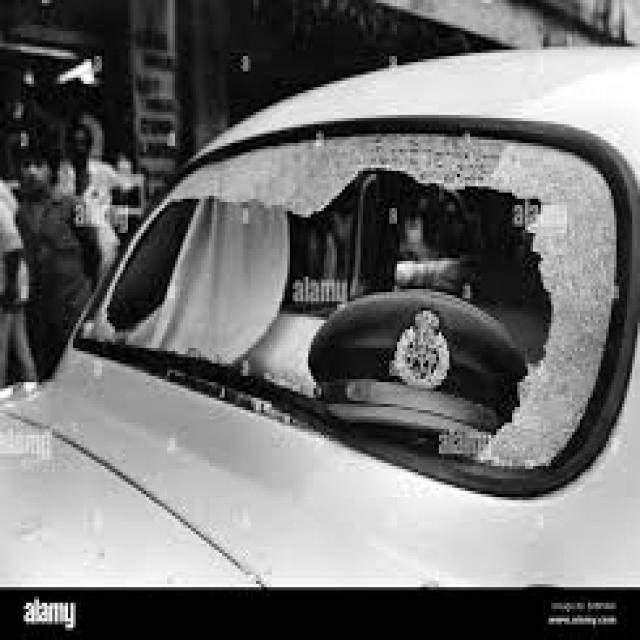damaged-rear-window: (76, 124, 640, 500)
